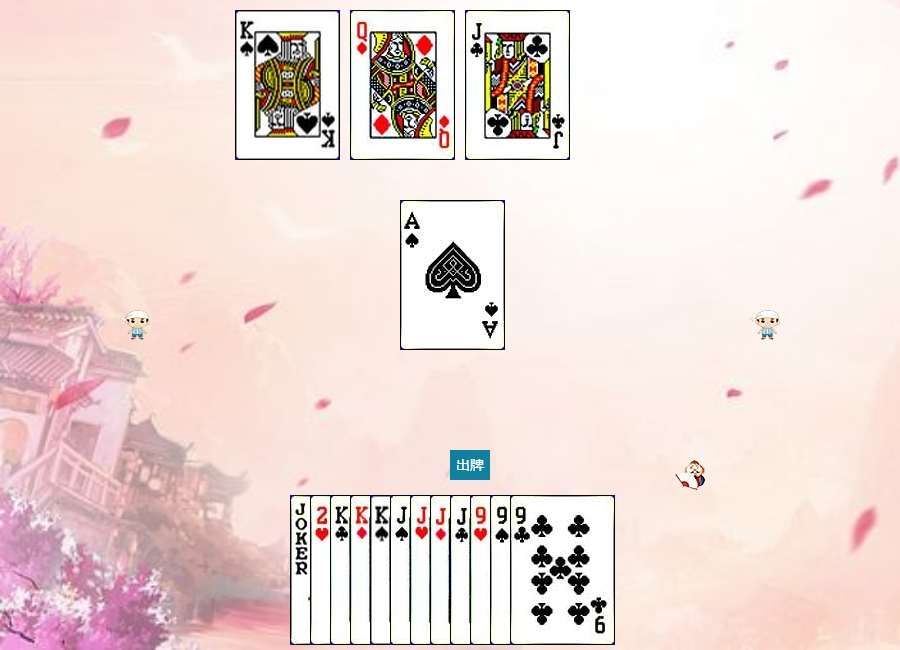11~1: (430, 495, 535, 645)
11~2: (465, 10, 570, 160), (450, 495, 555, 645)
11~3: (410, 495, 515, 645)
11~4: (390, 495, 495, 645)
12~1: (350, 10, 455, 160)
13~1: (350, 495, 455, 645)
13~2: (330, 495, 435, 645)
13~4: (235, 10, 340, 160), (370, 495, 475, 645)
14~4: (400, 200, 505, 350)
15~3: (310, 495, 415, 645)
17~3: (290, 495, 395, 645)
9~2: (510, 495, 615, 645)
9~3: (470, 495, 575, 645)
9~4: (490, 495, 595, 645)
